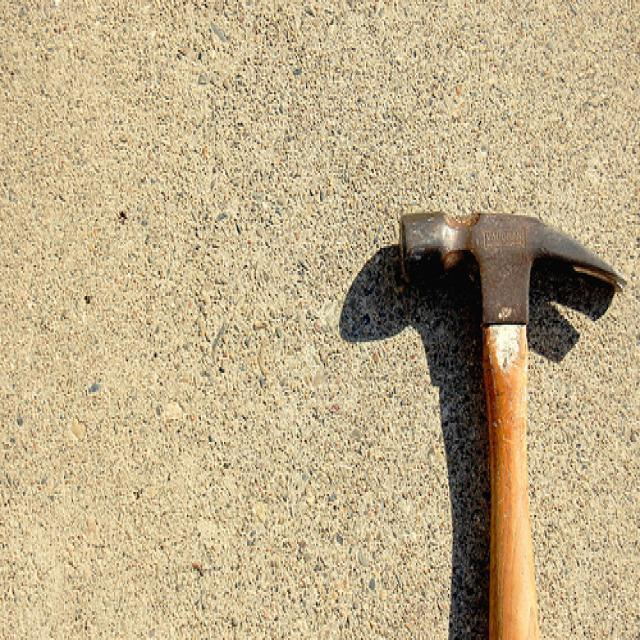hammer: (393, 205, 627, 640)
